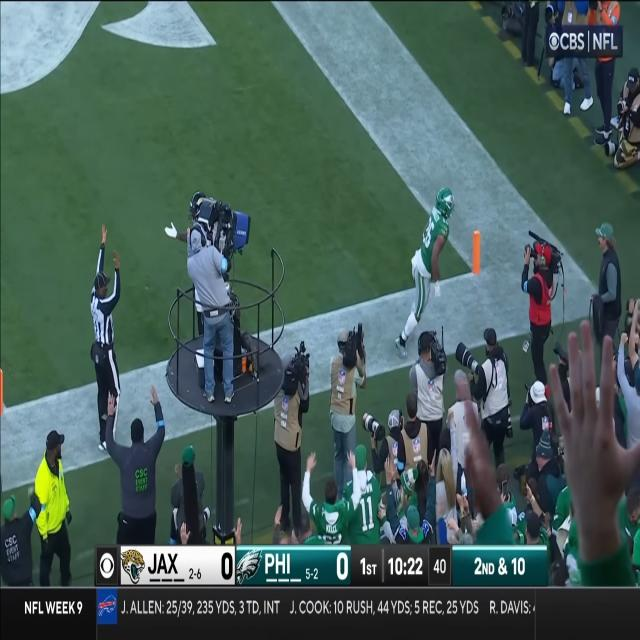Player: (410, 184, 452, 334)
Referee: (88, 266, 119, 440)
